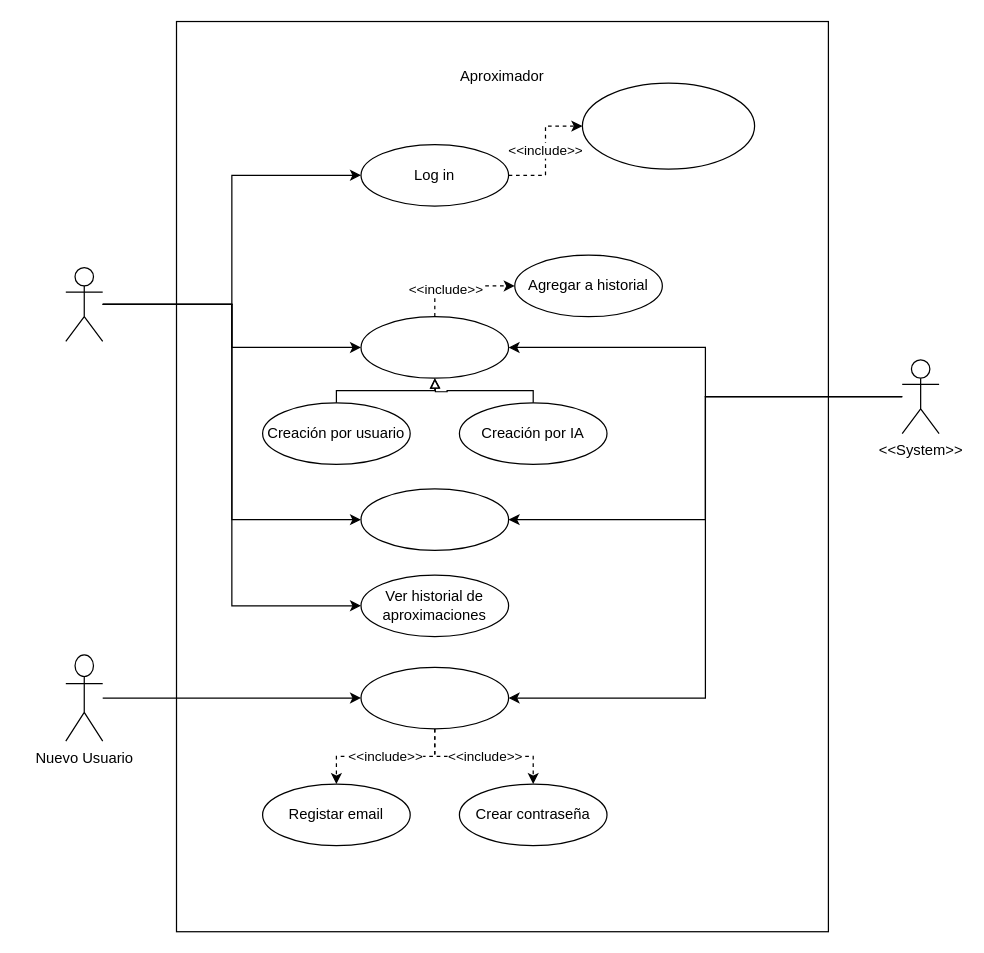
The diagram is 984 pixels wide and 953 high, and some of its shapes have lost their labels. The shapes that lost their labels are listed below. From the top down, each one's centre as x and y in pixels, then its label:
At point 668,125: "Verificar contraseña y usuario".
At point 84,303: "Usuario Registrado".
At point 434,346: "Crear aproximación".
At point 434,519: "Registrar material o servicio".
At point 434,697: "Crear Usuario".
